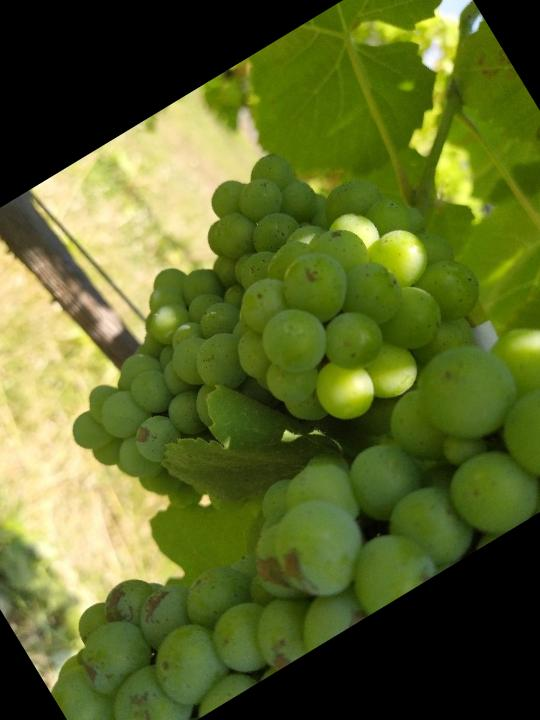grape: (0, 92, 501, 543)
